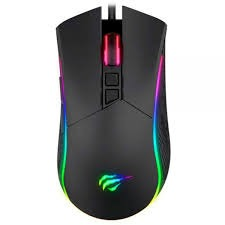mouse: (52, 2, 182, 220)
